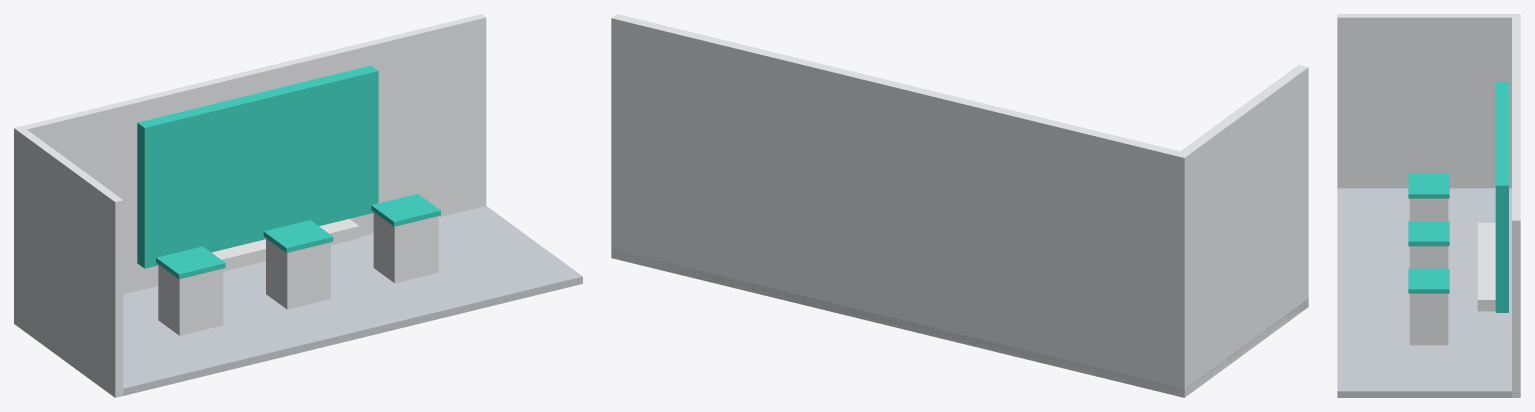
The picture shows the model from 3 angles, left to right: view 1: azimuth 30°, elevation 25°; view 2: azimuth 150°, elevation 25°; view 3: azimuth 270°, elevation 25°; orthographic projection. The views are drawn at different scales.
Visible parts, largest first — view 1: Exhibition Booth Concept; view 2: Exhibition Booth Concept; view 3: Exhibition Booth Concept.
Part boxes in pixels (left/top/right/bottom): Exhibition Booth Concept: left=14, top=14, right=582, bottom=397; Exhibition Booth Concept: left=611, top=14, right=1308, bottom=397; Exhibition Booth Concept: left=1337, top=14, right=1520, bottom=397.
Bounding box in the file's own units: 8 × 3.2 × 3.
